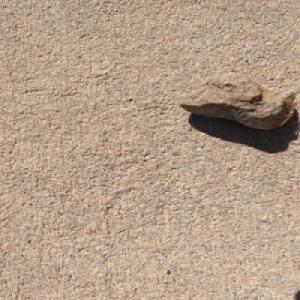Rock: (176, 71, 298, 131)
